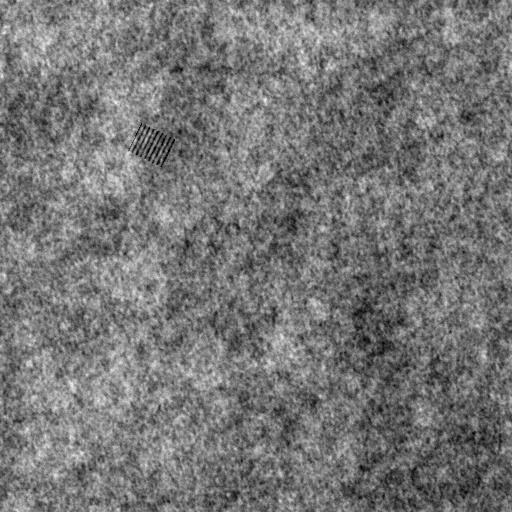impact: (125, 119, 178, 169)
